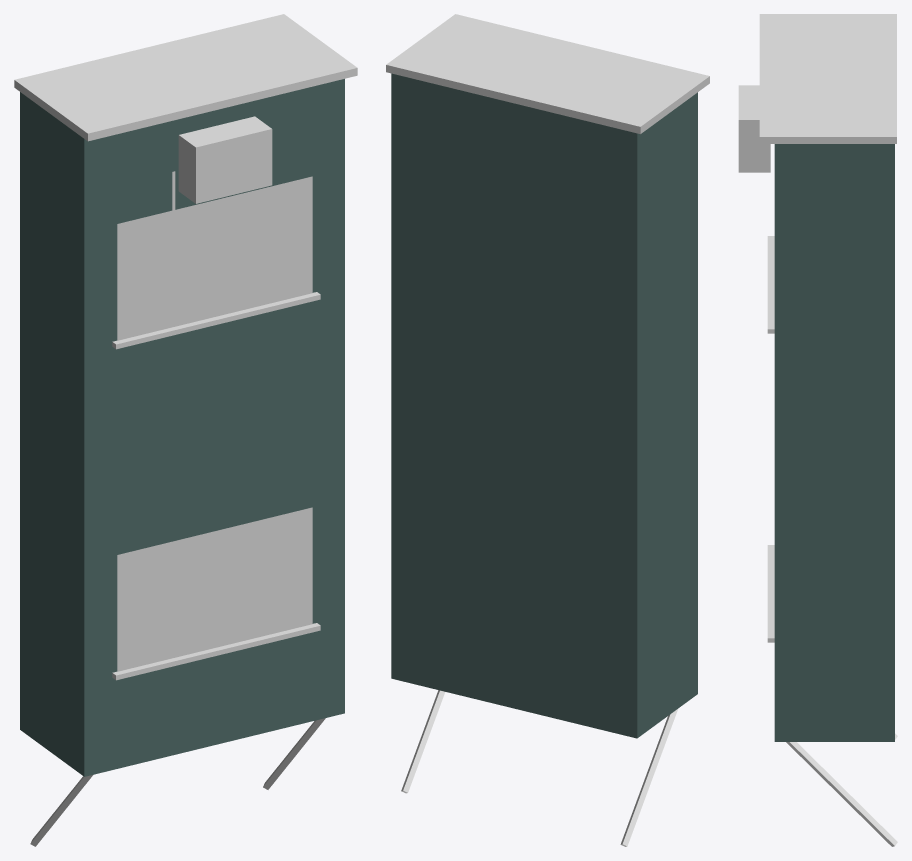
The model's file is LMM_Fac_KS_Cantilever.fbx.
The picture shows the model from 3 angles, left to right: view 1: azimuth 30°, elevation 25°; view 2: azimuth 150°, elevation 25°; view 3: azimuth 270°, elevation 25°; orthographic projection. The views are drawn at different scales.
Visible parts, largest first — view 1: LMM_Fac_KS_Cantilever_LOD0; view 2: LMM_Fac_KS_Cantilever_LOD0; view 3: LMM_Fac_KS_Cantilever_LOD0.
Boxes of the visible parts, left/top/right/bottom form: LMM_Fac_KS_Cantilever_LOD0: left=14, top=14, right=357, bottom=846; LMM_Fac_KS_Cantilever_LOD0: left=386, top=14, right=709, bottom=846; LMM_Fac_KS_Cantilever_LOD0: left=738, top=14, right=897, bottom=846.
Size of what is drawn, in the model's own units: 2.9 by 7.91 by 1.59.
